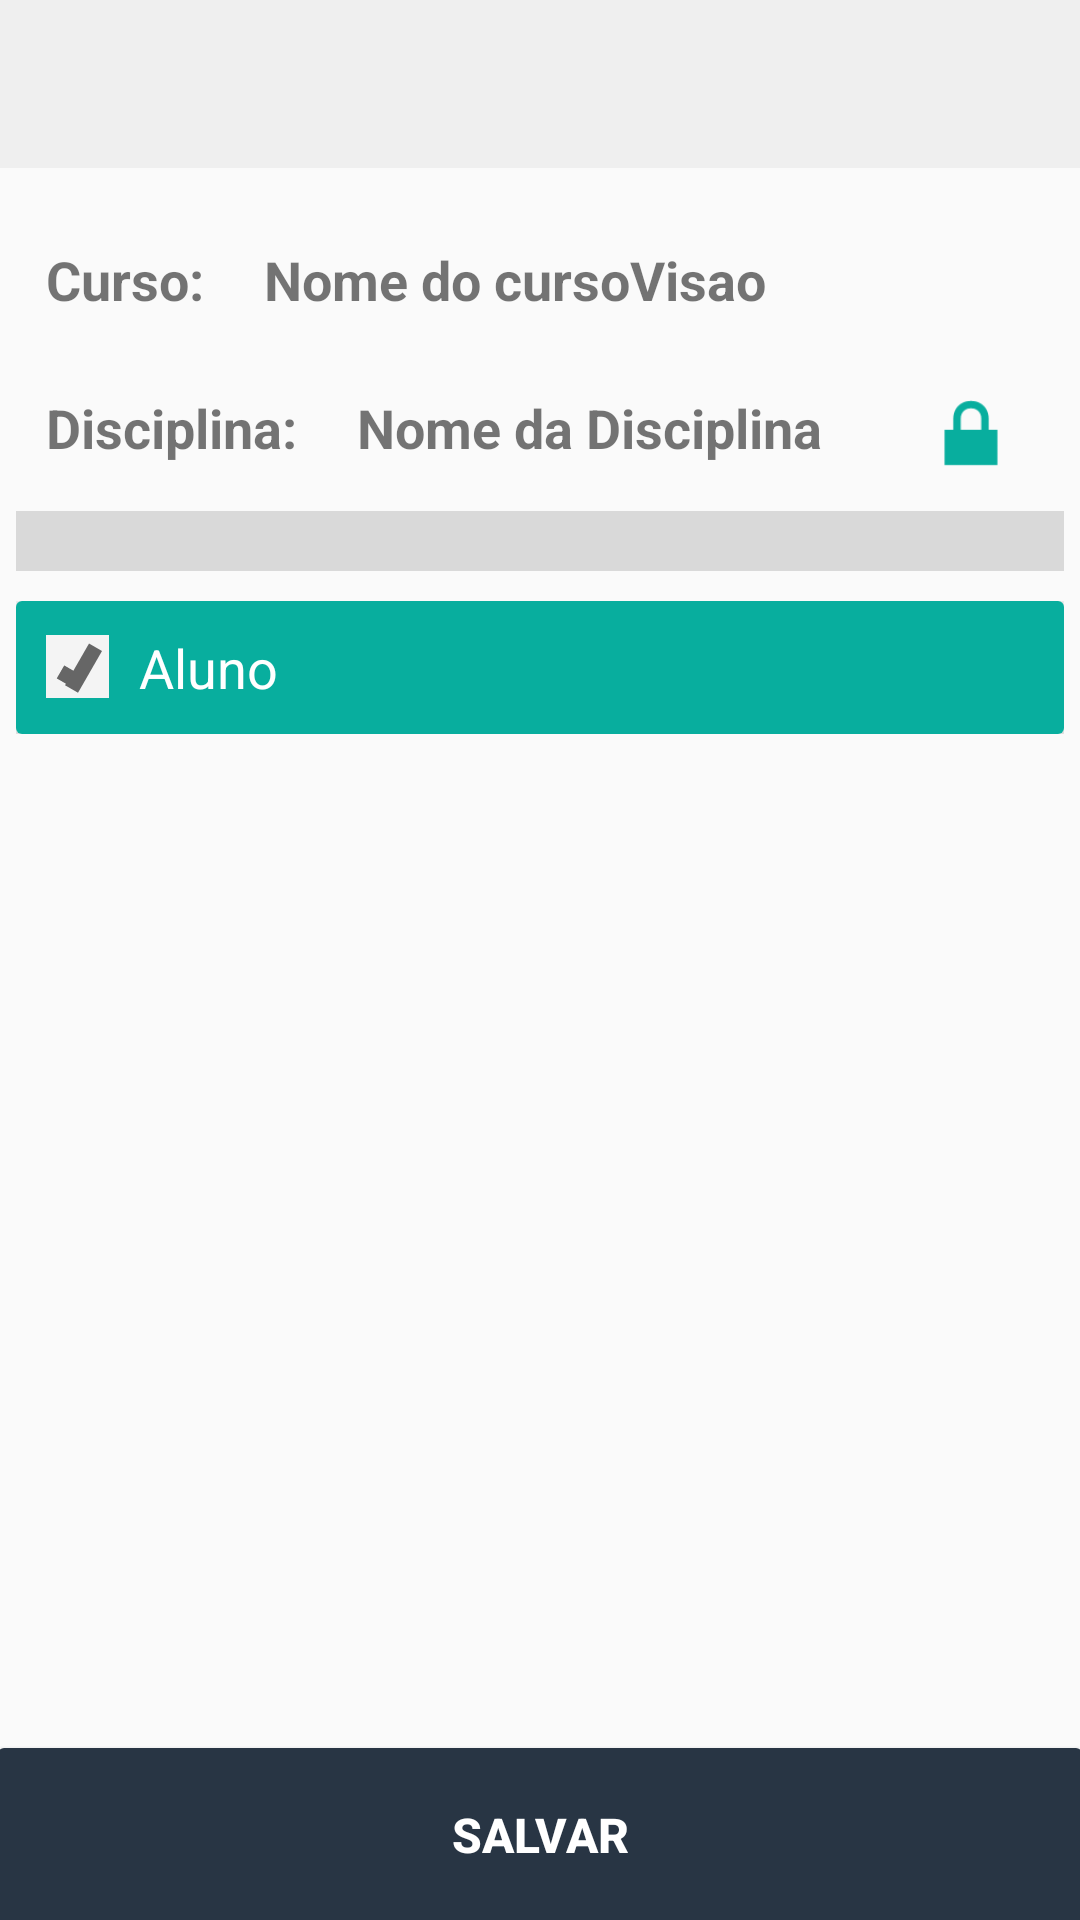

Where to tap for icons on this 1080 x 1920 app screen, as point (x, y):
checkbox style: point (77, 666)
lock: point (971, 433)
